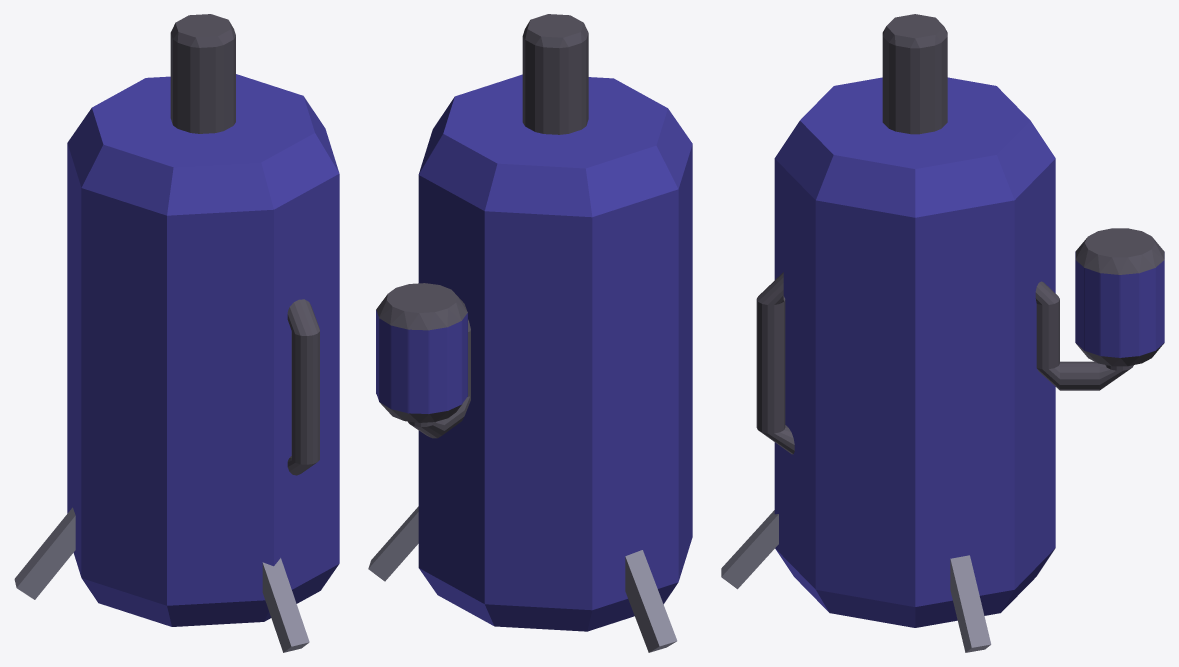
File: water_pump.glb
3 renders of one model, left to right at view 1: azimuth 30°, elevation 25°; view 2: azimuth 150°, elevation 25°; view 3: azimuth 270°, elevation 25°, orthographic.
Parts seen in each view (by area): view 1: Cylinder, Pipe, Cube, Cube.002; view 2: Cylinder, Cylinder.001, Cube.002, Cube.001, Pipe.001; view 3: Cylinder, Cylinder.001, Pipe, Pipe.001, Cube.001, Cube.
Part boxes in pixels (x1,y1,x2,y2): Cylinder: (67,14,339,626); Pipe: (287,299,319,475); Cube: (262,558,309,652); Cube.002: (14,507,75,599); Cylinder: (418,14,692,631); Cylinder.001: (376,283,467,422); Cube.002: (625,550,677,652); Cube.001: (368,506,418,581); Pipe.001: (408,319,470,438); Cylinder: (774,14,1055,627); Cylinder.001: (1075,228,1164,366); Pipe: (756,272,794,454); Pipe.001: (1035,281,1133,390); Cube.001: (950,555,991,652); Cube: (721,510,778,589).
Bounding box in the file's own units: 2.53 × 4.4 × 3.15.
